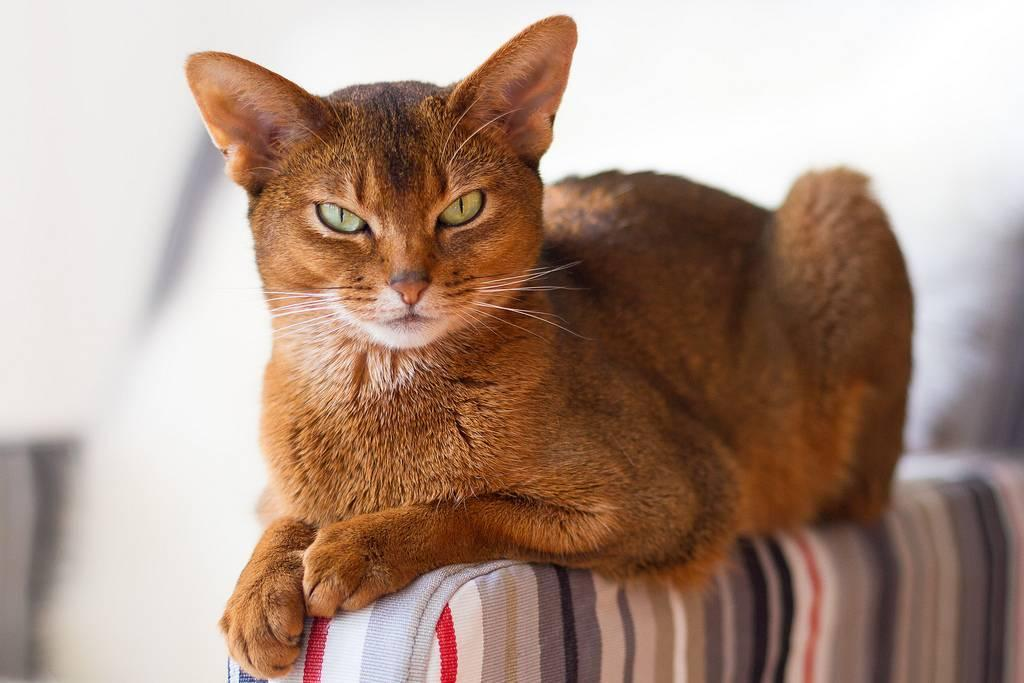cat: (0, 56, 717, 683)
